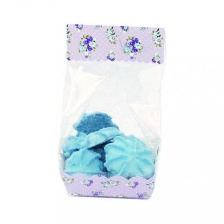snack: (47, 15, 173, 202)
